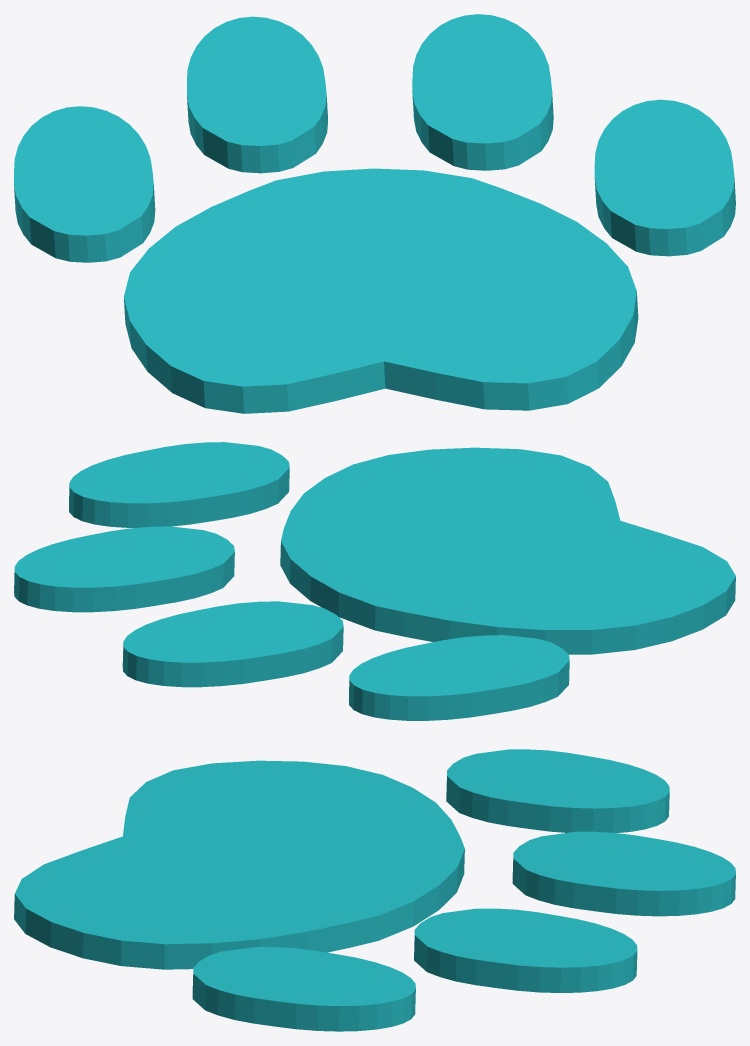
Rendered from roadmap_paw1.glb.
3 renders of one model, top to bottom at view 1: azimuth 30°, elevation 25°; view 2: azimuth 150°, elevation 25°; view 3: azimuth 270°, elevation 25°, orthographic. The views are drawn at different scales.
Visible parts, largest first — view 1: Paw Main.004; view 2: Paw Main.004; view 3: Paw Main.004.
Part boxes in pixels (left/top/right/bottom): Paw Main.004: left=14, top=14, right=735, bottom=413; Paw Main.004: left=14, top=442, right=735, bottom=720; Paw Main.004: left=14, top=749, right=735, bottom=1031.
Size of the model in its own units: 1.12 by 0.1421 by 1.23.
